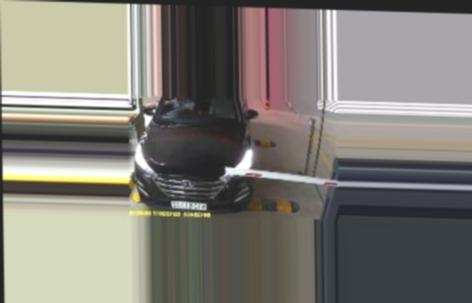License_Plate: (169, 197, 209, 211)
